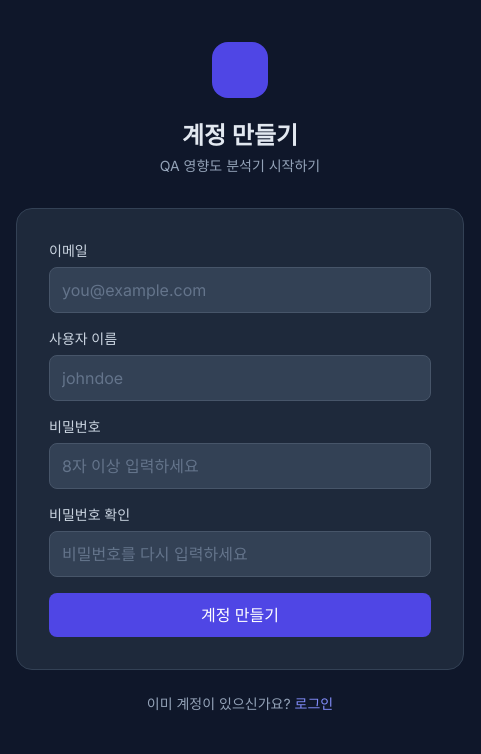
C10 — RegisterPage › submit with empty username shows inline error
Type "user@example.com" into the field with test id "email-input". click: (240,290)
box: [49, 267, 431, 313]
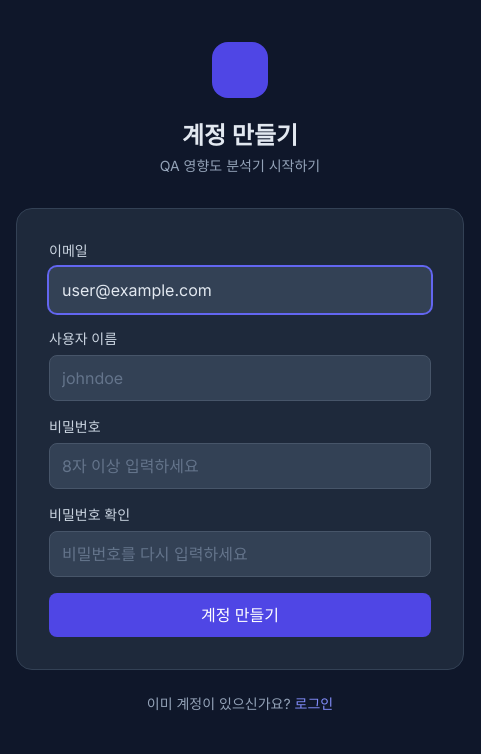
# Leave username blank
Type "Password1!" into the password field with test id "password-input". click: (240,466)
box: [49, 443, 431, 489]
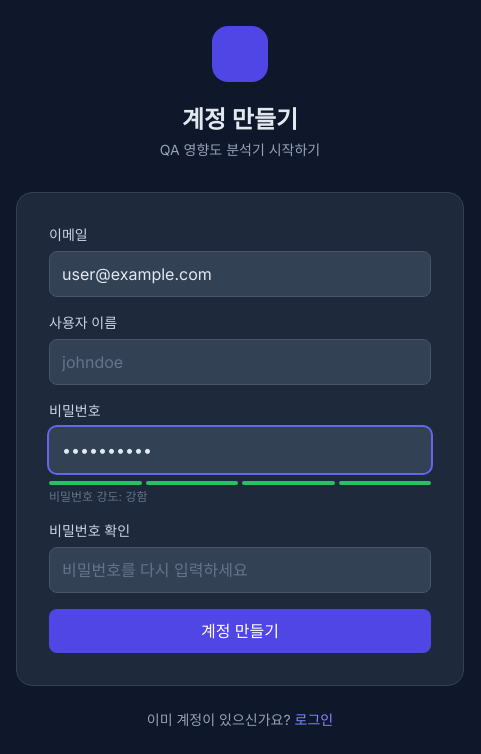
Type "Password1!" into the password field with test id "confirm-password-input". click: (240,570)
box: [49, 547, 431, 593]
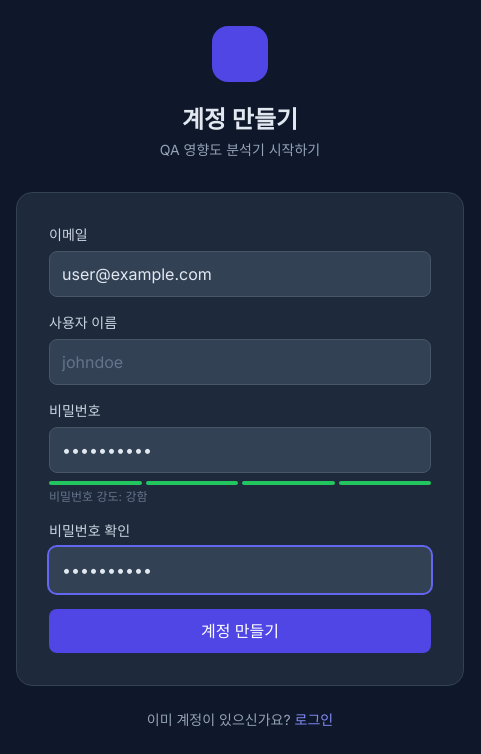
Click the button with test id "register-btn". click: (240,631)
box: [49, 609, 431, 653]
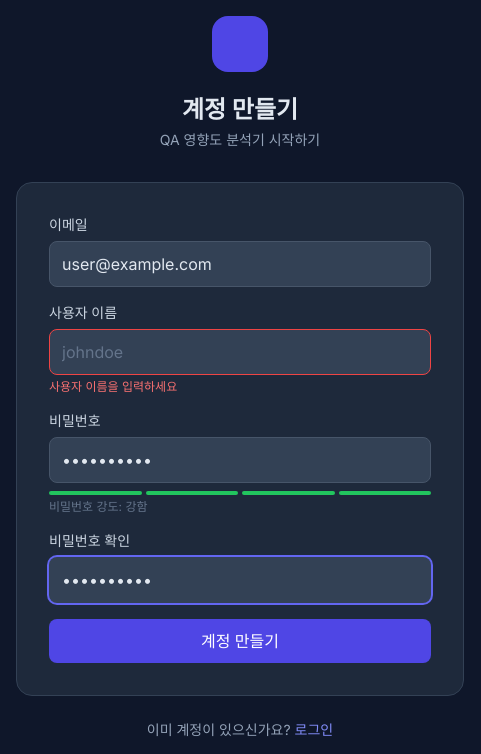
Expected: the text "사용자 이름을 입력하세요" is shown, [49, 379, 177, 394]
